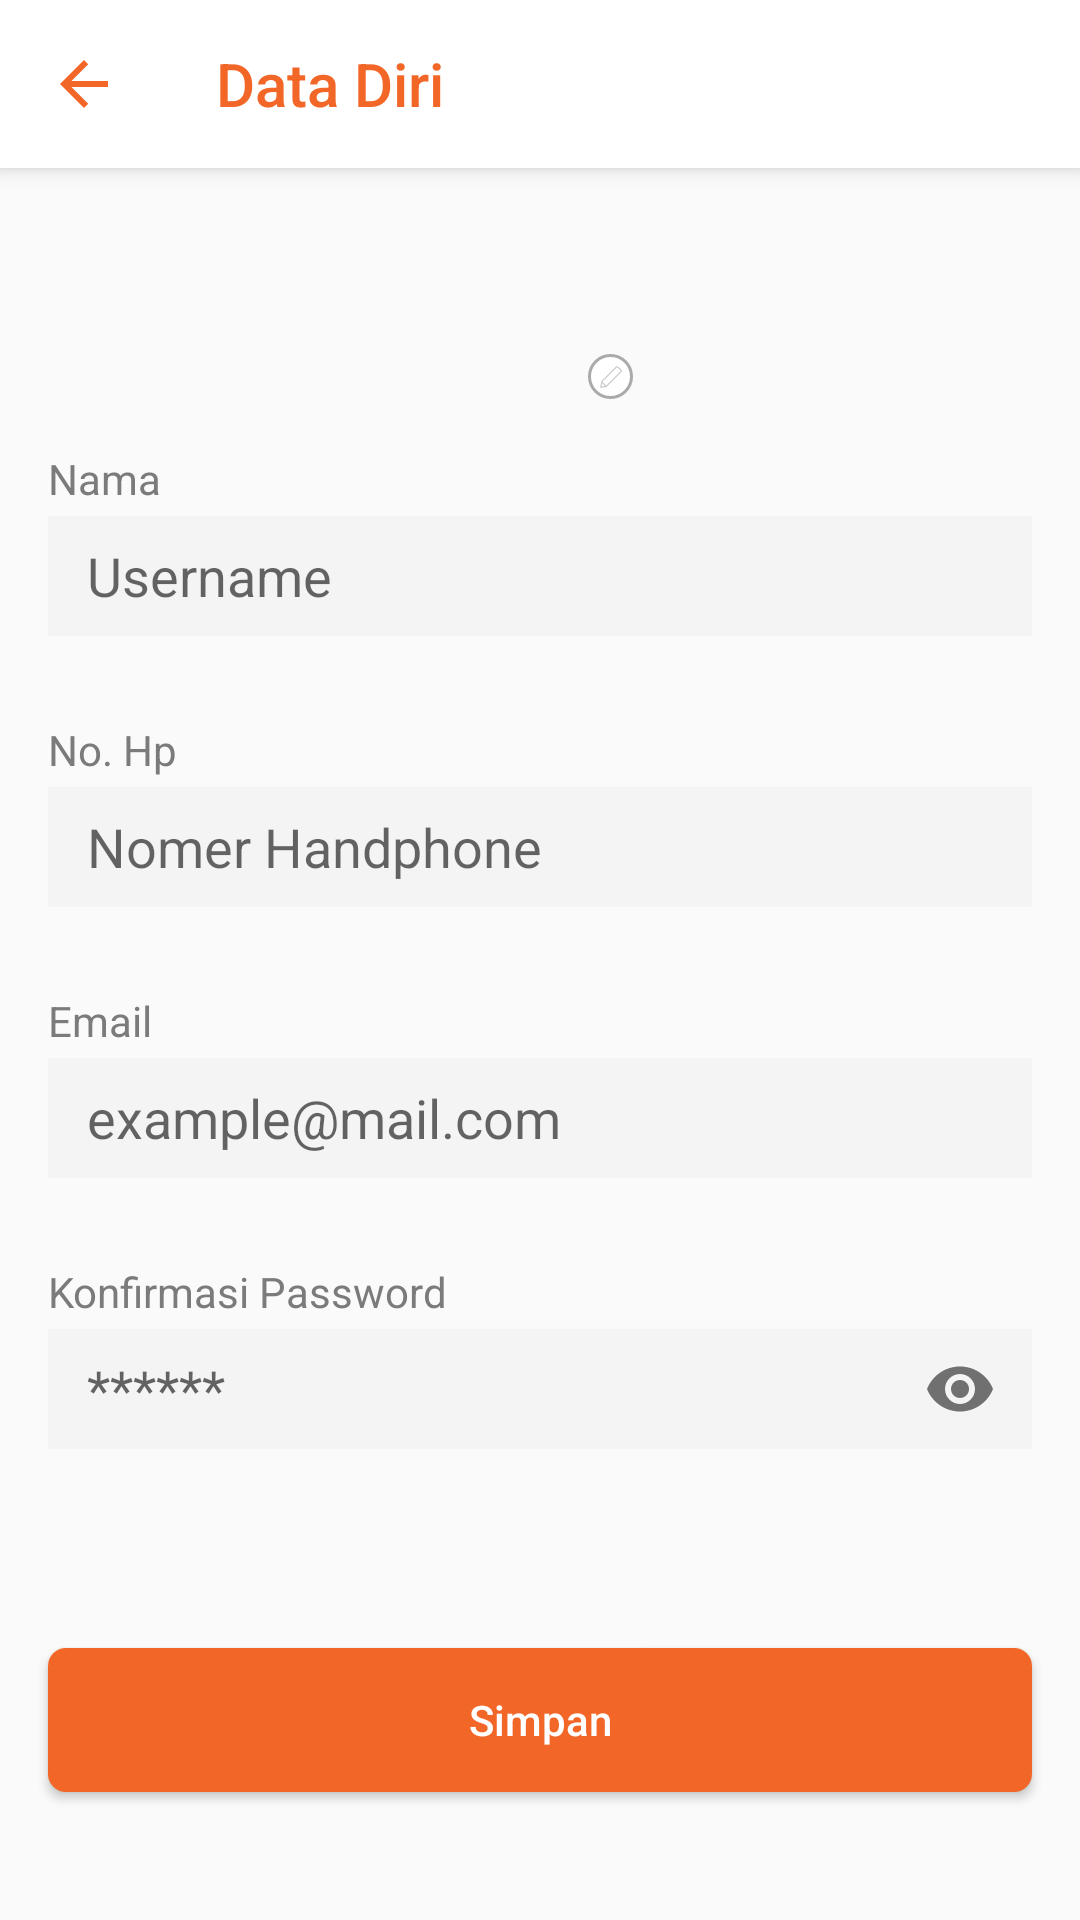

Screen size 1080 x 1920. Icon name, then its center in pixels as (x,y):
pencil: (610,376)
